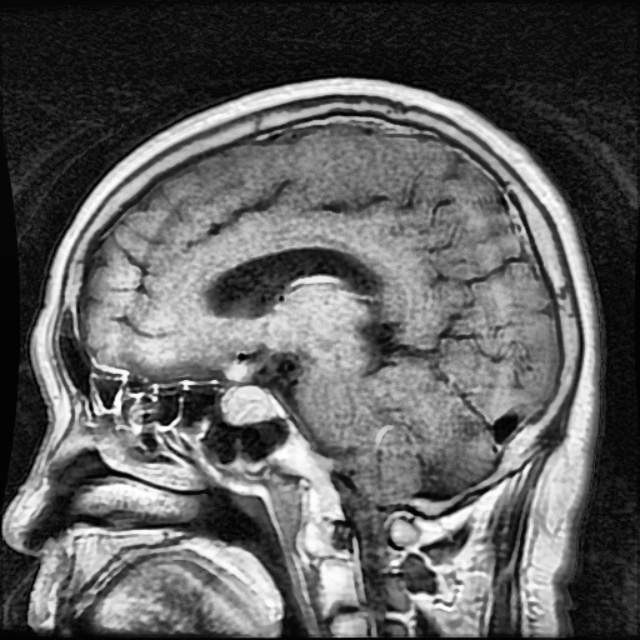Pituitary: (222, 385, 269, 424)
